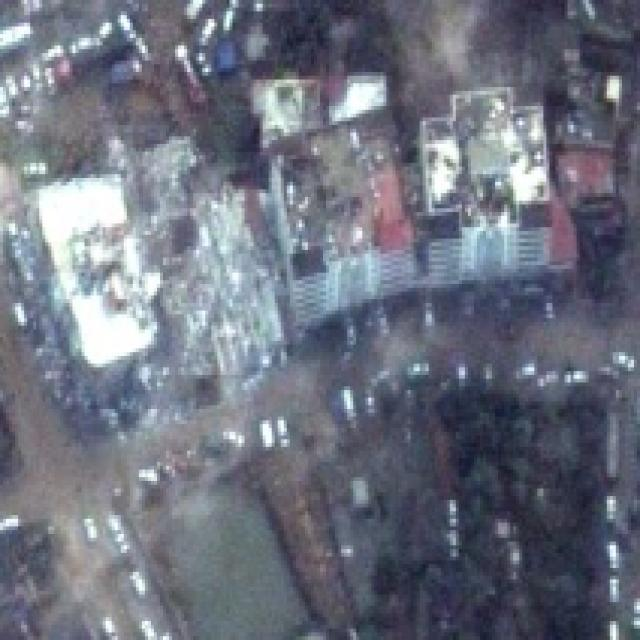Rubble: (143, 152, 284, 375)
